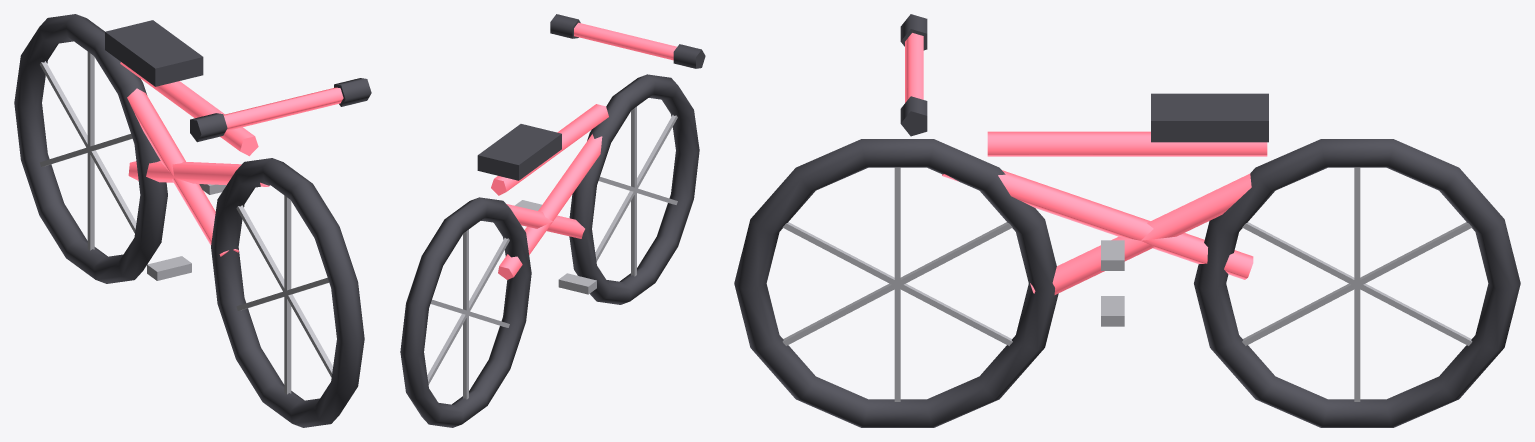
The model's file is bike.glb.
3 views of the same model, side by side, from view 1: azimuth 30°, elevation 25°; view 2: azimuth 150°, elevation 25°; view 3: azimuth 270°, elevation 25° (orthographic). The views are drawn at different scales.
Parts seen in each view (by area): view 1: wheel_f, wheel_b, bike, crank; view 2: wheel_b, wheel_f, bike, crank; view 3: wheel_f, wheel_b, bike, crank.
Part boxes in pixels (box(x1,y1,x2,y2)): wheel_f: box(211, 158, 364, 427); wheel_b: box(14, 14, 167, 283); bike: box(105, 20, 371, 256); crank: box(147, 184, 226, 280); wheel_b: box(400, 197, 531, 427); wheel_f: box(569, 74, 699, 304); bike: box(477, 14, 705, 279); crank: box(515, 200, 596, 294); wheel_f: box(734, 139, 1058, 427); wheel_b: box(1194, 139, 1520, 427); bike: box(900, 14, 1268, 294); crank: box(1101, 240, 1124, 326).
Bounding box in the file's own units: 0.78 × 1.37 × 2.67.
